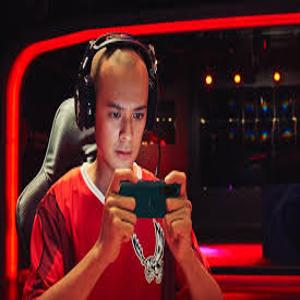Headphones: (72, 35, 163, 131)
